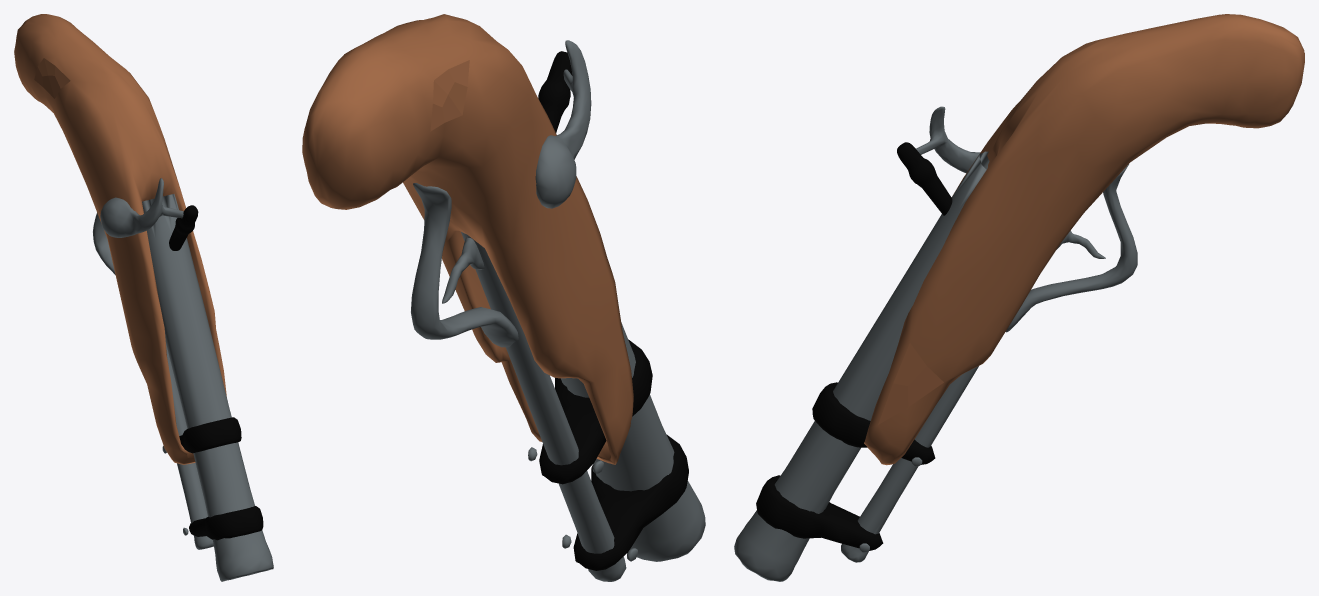
Rendered from gun.glb.
The picture shows the model from 3 angles, left to right: view 1: azimuth 30°, elevation 25°; view 2: azimuth 150°, elevation 25°; view 3: azimuth 270°, elevation 25°; orthographic projection. The views are drawn at different scales.
Parts seen in each view (by area): view 1: gun; view 2: gun; view 3: gun.
Part boxes in pixels (bbox=[...]): gun: bbox=[14, 14, 273, 581]; gun: bbox=[302, 14, 705, 581]; gun: bbox=[734, 14, 1304, 581].
Bounding box in the file's own units: 0.1804 × 0.9662 × 0.9006.
